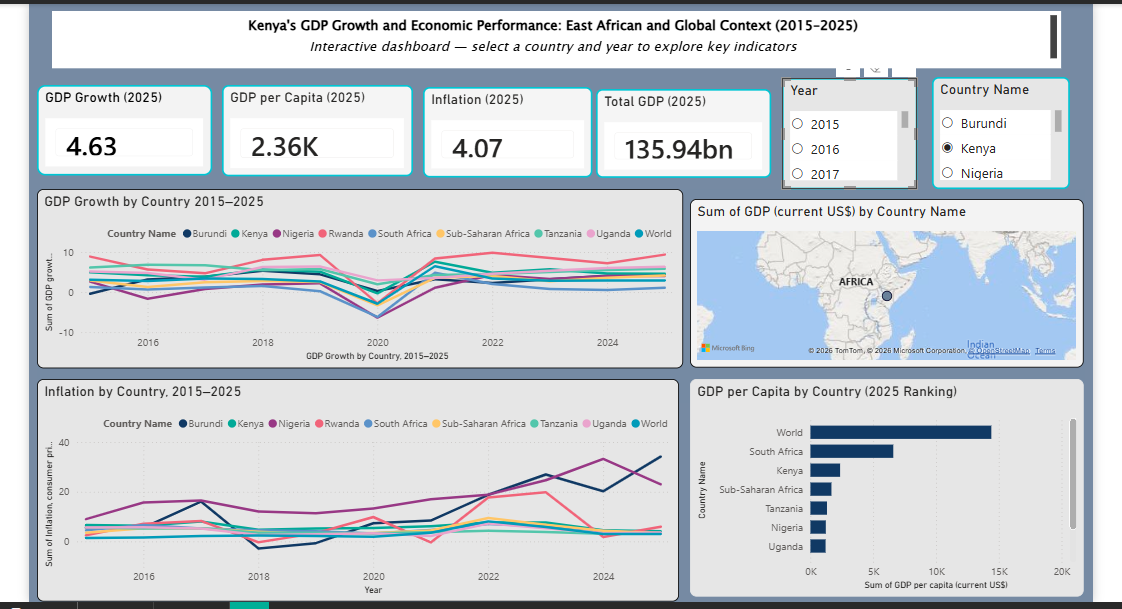

The dashboard page shown, as its layout file describes it:
{"tool":"powerbi","page":{"name":"Page 1","canvas":[1280,720],"ordinal":0},"visuals":[{"type":"cardVisual","title":"GDP Growth (2025)","fields":{"Data":["Sum(gdp_africa_cleaned.GDP growth (annual %))"]},"box":[9.6,97.7,210.6,108.7],"z":0},{"type":"cardVisual","title":"GDP per Capita (2025)","fields":{"Data":["Sum(gdp_africa_cleaned.GDP per capita (current US$))"]},"box":[232.6,97.7,229.8,110.1],"z":1000},{"type":"cardVisual","title":"Inflation (2025)","fields":{"Data":["Sum(gdp_africa_cleaned.Inflation, consumer prices (annual %))"]},"box":[474.8,100.5,204.4,108.6],"z":2000},{"type":"cardVisual","title":"Total GDP (2025)","fields":{"Data":["Sum(gdp_africa_cleaned.GDP (current US$))"]},"box":[682.7,101.8,210.6,107.4],"z":3000},{"type":"listSlicer","fields":{"Values":["gdp_africa_cleaned.Country Name"]},"box":[1087.2,87.9,166.2,134.8],"z":4000},{"type":"listSlicer","fields":{"Values":["gdp_africa_cleaned.Year"]},"box":[1117.3,0,162.5,133.6],"z":5000},{"type":"lineChart","title":"GDP Growth by Country 2015–2025","fields":{"Category":["gdp_africa_cleaned.Year"],"Series":["gdp_africa_cleaned.Country Name"],"Y":["Sum(gdp_africa_cleaned.GDP growth (annual %))"]},"box":[9.6,222.7,777.8,215.5],"z":6000},{"type":"lineChart","title":"Inflation by Country, 2015–2025","fields":{"Category":["gdp_africa_cleaned.Year"],"Series":["gdp_africa_cleaned.Country Name"],"Y":["Sum(gdp_africa_cleaned.Inflation, consumer prices (annual %))"]},"box":[9.6,451.5,773,268.5],"z":7000},{"type":"clusteredBarChart","title":"GDP per Capita by Country (2025 Ranking)","fields":{"Category":["gdp_africa_cleaned.Country Name"],"Y":["Sum(gdp_africa_cleaned.GDP per capita (current US$))"]},"box":[795.9,451.5,474.4,262.5],"z":8000},{"type":"textbox","box":[27.7,8.4,1214.8,68.6],"z":9000},{"type":"map","fields":{"Category":["gdp_africa_cleaned.Country Name"],"Size":["Sum(gdp_africa_cleaned.GDP (current US$))"]},"box":[795.9,234.8,474.4,203.5],"z":10000}]}

Visuals, with their boxes in screenshot pixels (x1, y1, x2, y2):
"GDP Growth (2025)" cardVisual: BBox(31, 81, 207, 172)
"GDP per Capita (2025)" cardVisual: BBox(217, 81, 408, 173)
"Inflation (2025)" cardVisual: BBox(419, 84, 589, 174)
"Total GDP (2025)" cardVisual: BBox(592, 85, 767, 174)
listSlicer - gdp_africa_cleaned.Country Name: BBox(928, 73, 1067, 185)
listSlicer - gdp_africa_cleaned.Year: BBox(953, 0, 1089, 111)
"GDP Growth by Country 2015–2025" lineChart: BBox(31, 185, 679, 365)
"Inflation by Country, 2015–2025" lineChart: BBox(31, 376, 675, 599)
"GDP per Capita by Country (2025 Ranking)" clusteredBarChart: BBox(686, 376, 1081, 594)
textbox: BBox(46, 7, 1058, 64)
map - gdp_africa_cleaned.Country Name x Sum(gdp_africa_cleaned.GDP (current US$)): BBox(686, 195, 1081, 365)
